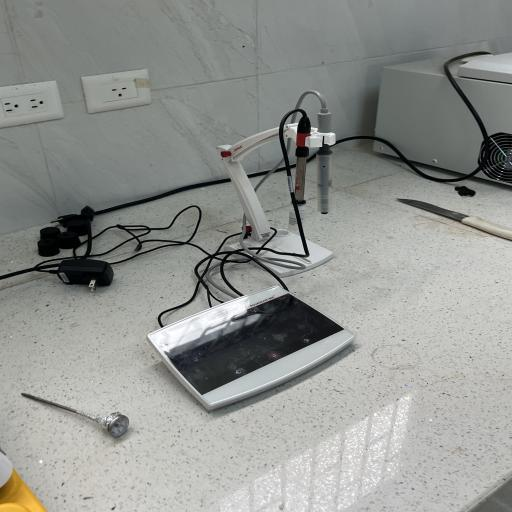Phmetro_Ohaus: (140, 278, 378, 417)
